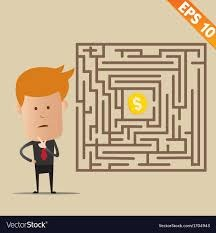maze: (76, 43, 207, 172)
